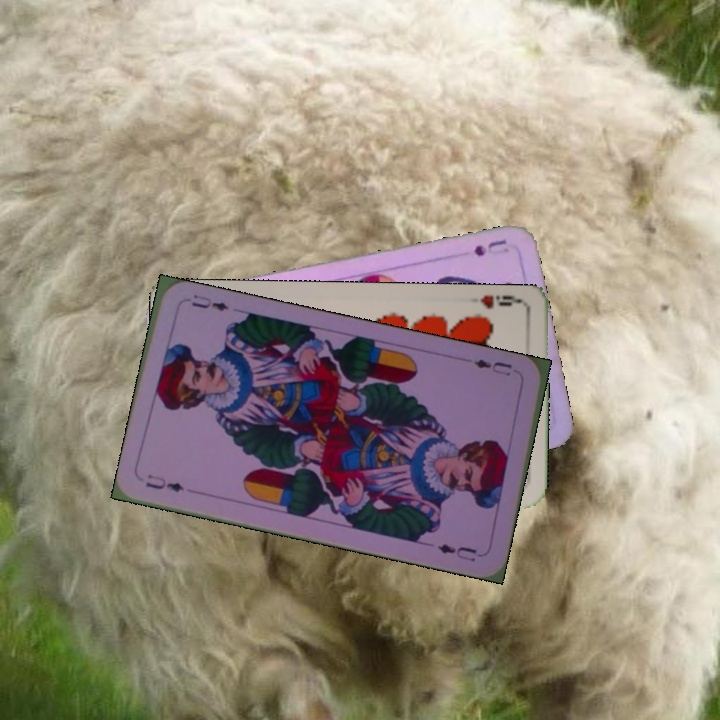EU: (141, 470, 186, 495), (469, 355, 515, 379)
H9: (477, 291, 524, 311)
SU: (469, 235, 511, 259)
